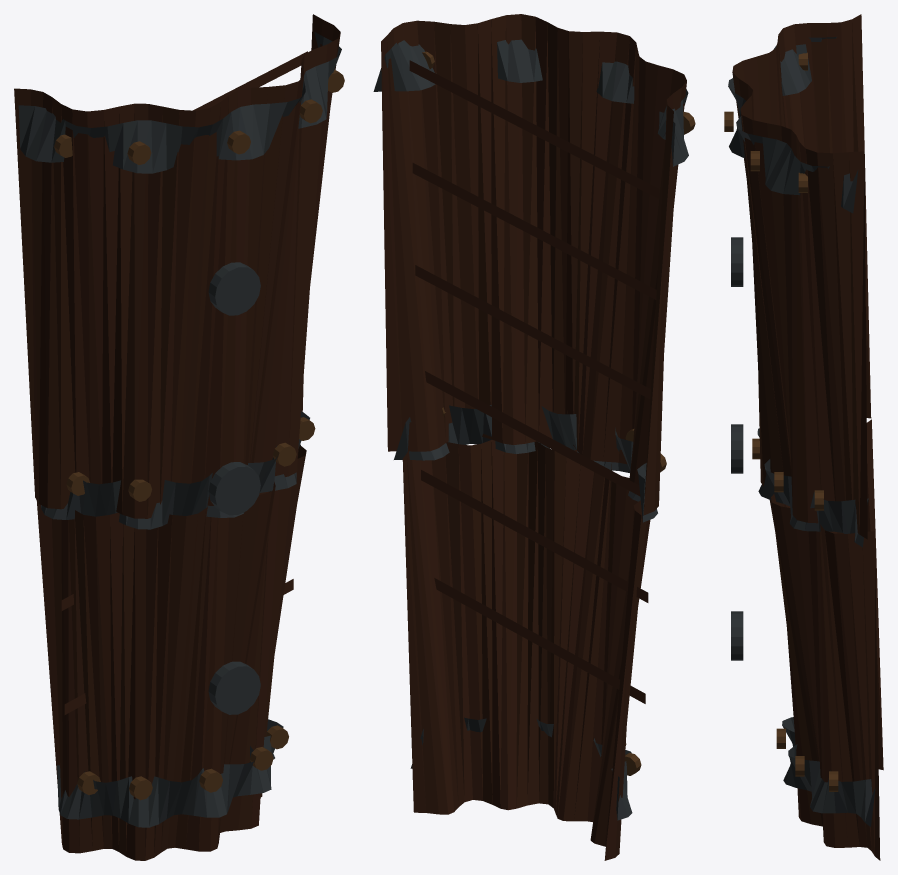
File: SM_RatiborBracer_v01.obj
The picture shows the model from 3 angles, left to right: view 1: azimuth 30°, elevation 25°; view 2: azimuth 150°, elevation 25°; view 3: azimuth 270°, elevation 25°; orthographic projection. The views are drawn at different scales.
Size of the model in its own units: 0.3295 by 0.78 by 0.1544.
